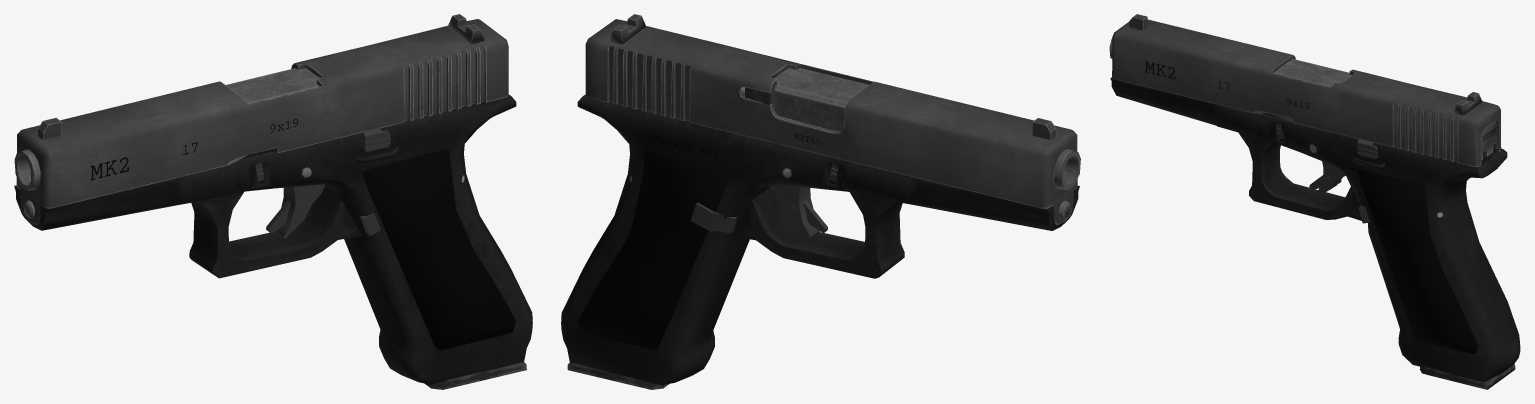
Rendered from Pistol.glb.
The picture shows the model from 3 angles, left to right: view 1: azimuth 30°, elevation 25°; view 2: azimuth 150°, elevation 25°; view 3: azimuth 330°, elevation 25°; orthographic projection. The views are drawn at different scales.
Visible parts, largest first — view 1: Cube.005_9m2_0, Cube.005_9m1_0; view 2: Cube.005_9m2_0, Cube.005_9m1_0; view 3: Cube.005_9m2_0, Cube.005_9m1_0.
Boxes of the visible parts, bbox=[...] form: Cube.005_9m2_0: bbox=[14, 14, 526, 389]; Cube.005_9m1_0: bbox=[14, 94, 532, 384]; Cube.005_9m2_0: bbox=[567, 14, 1080, 389]; Cube.005_9m1_0: bbox=[561, 94, 1079, 384]; Cube.005_9m2_0: bbox=[1109, 14, 1515, 389]; Cube.005_9m1_0: bbox=[1110, 77, 1520, 381].
Size of the model in its own units: 2.4 by 1.58 by 0.3326.
Materials: 2 (2 with a texture image).
